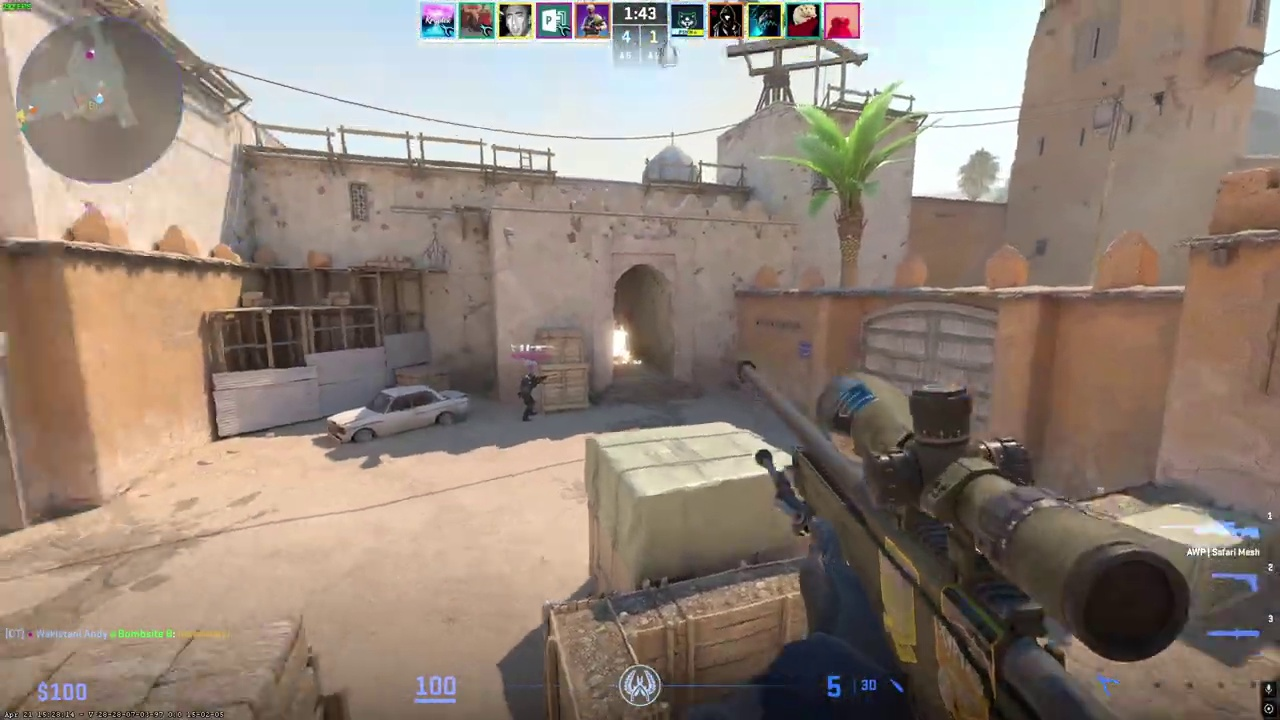CT: (518, 373, 541, 422)
